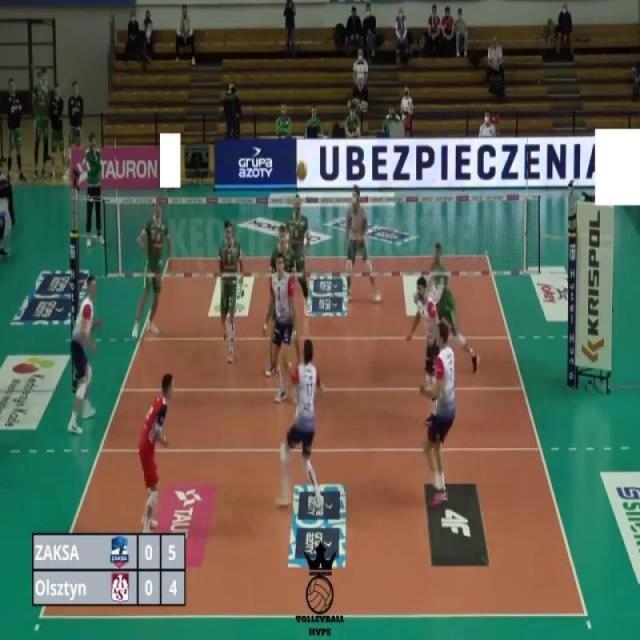volleyball: (295, 158, 308, 182)
